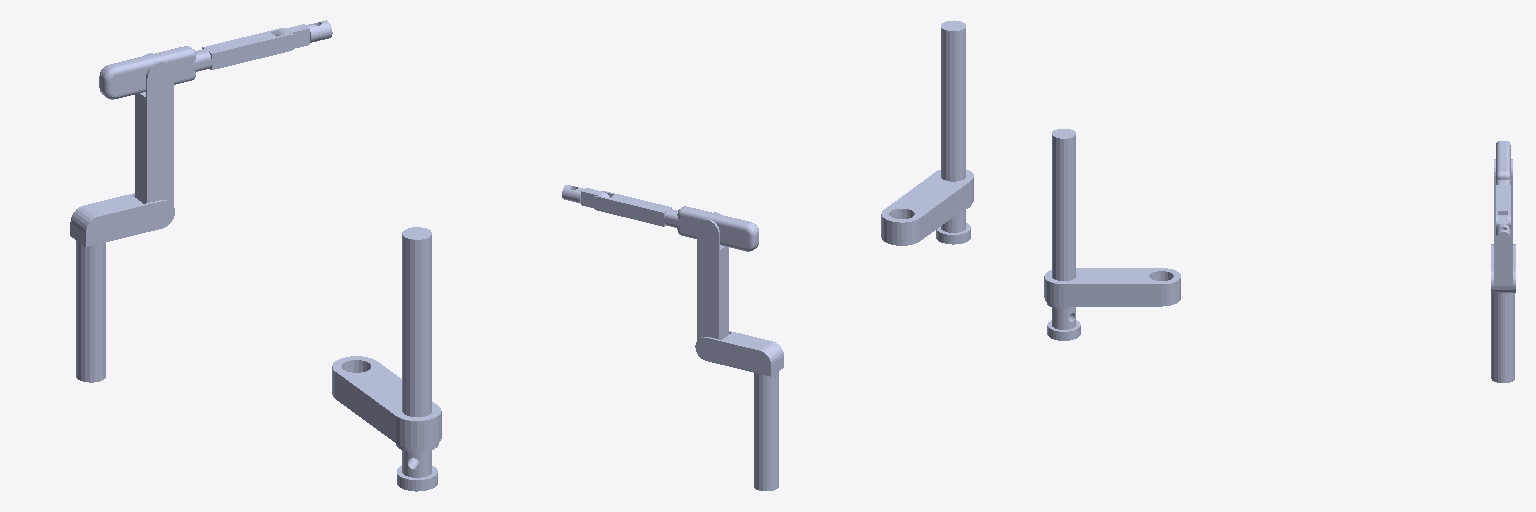
The robot description file, URDF, robot "ttcc":
<?xml version="1.0" encoding="utf-8"?>
<!-- This URDF was automatically created by SolidWorks to URDF Exporter! Originally created by Stephen Brawner (brawner@gmail.com) 
     Commit Version: 1.6.0-4-g7f85cfe  Build Version: 1.6.7995.38578
     For more information, please see http://wiki.ros.org/sw_urdf_exporter -->
<robot
  name="ttcc">
  <link
    name="base_link">
    <inertial>
      <origin
        xyz="-1.73472347597681E-18 0 0.0998780760555324"
        rpy="0 0 0" />
      <mass
        value="0.98887911957046" />
      <inertia
        ixx="0.00386390013512193"
        ixy="-6.15155978133186E-38"
        ixz="1.46264242236905E-19"
        iyy="0.00386390013512193"
        iyz="-8.4410901568214E-36"
        izz="0.000743243095074335" />
    </inertial>
    <visual>
      <origin
        xyz="0 0 0"
        rpy="0 0 0" />
      <geometry>
        <mesh
          filename="package://ttcc/meshes/base_link.STL" />
      </geometry>
      <material
        name="">
        <color
          rgba="0.792156862745098 0.819607843137255 0.933333333333333 1" />
      </material>
    </visual>
    <collision>
      <origin
        xyz="0 0 0"
        rpy="0 0 0" />
      <geometry>
        <mesh
          filename="package://ttcc/meshes/base_link.STL" />
      </geometry>
    </collision>
  </link>
  <link
    name="rot1">
    <inertial>
      <origin
        xyz="0.118676345594585 6.93889390390723E-18 0.0296690863986462"
        rpy="0 0 0" />
      <mass
        value="1.05132741228718" />
      <inertia
        ixx="0.000968741777605735"
        ixy="1.53367779055571E-19"
        ixz="-0.000399196555067386"
        iyy="0.00620864004558683"
        iyz="7.95238803452061E-20"
        izz="0.00629429353114417" />
    </inertial>
    <visual>
      <origin
        xyz="0 0 0"
        rpy="0 0 0" />
      <geometry>
        <mesh
          filename="package://ttcc/meshes/rot1.STL" />
      </geometry>
      <material
        name="">
        <color
          rgba="0.792156862745098 0.819607843137255 0.933333333333333 1" />
      </material>
    </visual>
    <collision>
      <origin
        xyz="0 0 0"
        rpy="0 0 0" />
      <geometry>
        <mesh
          filename="package://ttcc/meshes/rot1.STL" />
      </geometry>
    </collision>
  </link>
  <joint
    name="1"
    type="continuous">
    <origin
      xyz="0 0 0.1772"
      rpy="0 0 0" />
    <parent
      link="base_link" />
    <child
      link="rot1" />
    <axis
      xyz="0 0 1" />
  </joint>
  <link
    name="rot2">
    <inertial>
      <origin
        xyz="0.1 0 0.0750000000000004"
        rpy="0 0 0" />
      <mass
        value="0.854977871437822" />
      <inertia
        ixx="0.000674638405706707"
        ixy="6.4804554053383E-20"
        ixz="1.13555967627051E-19"
        iyy="0.00431775045341826"
        iyz="6.60322314929737E-21"
        izz="0.00463614807935921" />
    </inertial>
    <visual>
      <origin
        xyz="0 0 0"
        rpy="0 0 0" />
      <geometry>
        <mesh
          filename="package://ttcc/meshes/rot2.STL" />
      </geometry>
      <material
        name="">
        <color
          rgba="0.792156862745098 0.819607843137255 0.933333333333333 1" />
      </material>
    </visual>
    <collision>
      <origin
        xyz="0 0 0"
        rpy="0 0 0" />
      <geometry>
        <mesh
          filename="package://ttcc/meshes/rot2.STL" />
      </geometry>
    </collision>
  </link>
  <joint
    name="2"
    type="revolute">
    <origin
      xyz="0.2 0 0"
      rpy="0 0 -1.57079632679489" />
    <parent
      link="rot1" />
    <child
      link="rot2" />
    <axis
      xyz="0 0 1" />
    <limit
      lower="-1.1"
      upper="4.3"
      effort="0"
      velocity="0" />
  </joint>
  <link
    name="prisma1">
    <inertial>
      <origin
        xyz="0 -2.77555756156289E-17 -0.1895"
        rpy="0 0 0" />
      <mass
        value="0.744164759819082" />
      <inertia
        ixx="0.00902398993248613"
        ixy="-2.53580488584256E-20"
        ixz="-3.11783790133065E-19"
        iyy="0.00902398993248613"
        iyz="4.28033982679163E-20"
        izz="0.000232551487443463" />
    </inertial>
    <visual>
      <origin
        xyz="0 0 0"
        rpy="0 0 0" />
      <geometry>
        <mesh
          filename="package://ttcc/meshes/prisma1.STL" />
      </geometry>
      <material
        name="">
        <color
          rgba="0.792156862745098 0.819607843137255 0.933333333333333 1" />
      </material>
    </visual>
    <collision>
      <origin
        xyz="0 0 0"
        rpy="0 0 0" />
      <geometry>
        <mesh
          filename="package://ttcc/meshes/prisma1.STL" />
      </geometry>
    </collision>
  </link>
  <joint
    name="3"
    type="prismatic">
    <origin
      xyz="0.2 0 0.043153"
      rpy="-3.1416 0 0" />
    <parent
      link="rot2" />
    <child
      link="prisma1" />
    <axis
      xyz="0 0 -1" />
    <limit
      lower="0"
      upper="-0.15"
      effort="0"
      velocity="0" />
  </joint>
  <link
    name="rot3">
    <inertial>
      <origin
        xyz="5.34014416020412E-10 -5.35736927043118E-10 -0.0349809453938201"
        rpy="0 0 0" />
      <mass
        value="0.182222784010828" />
      <inertia
        ixx="0.000161921495281095"
        ixy="1.35115873626282E-06"
        ixz="2.85630487972558E-12"
        iyy="0.000161912661018423"
        iyz="-2.8655180163919E-12"
        izz="8.98947732639393E-05" />
    </inertial>
    <visual>
      <origin
        xyz="0 0 0"
        rpy="0 0 0" />
      <geometry>
        <mesh
          filename="package://ttcc/meshes/rot3.STL" />
      </geometry>
      <material
        name="">
        <color
          rgba="0.792156862745098 0.819607843137255 0.933333333333333 1" />
      </material>
    </visual>
    <collision>
      <origin
        xyz="0 0 0"
        rpy="0 0 0" />
      <geometry>
        <mesh
          filename="package://ttcc/meshes/rot3.STL" />
      </geometry>
    </collision>
  </link>
  <joint
    name="4"
    type="continuous">
    <origin
      xyz="0 0 0.073684"
      rpy="0 0 0" />
    <parent
      link="prisma1" />
    <child
      link="rot3" />
    <axis
      xyz="0 0 -1" />
  </joint>
  <link
    name="org">
    <inertial>
      <origin
        xyz="0 0 0.127637362637363"
        rpy="0 0 0" />
      <mass
        value="0.500298630084175" />
      <inertia
        ixx="0.00281552189368122"
        ixy="-1.05789932569103E-38"
        ixz="5.85218717398302E-21"
        iyy="0.00281552189368122"
        iyz="-3.30465389934682E-36"
        izz="0.000153869317686603" />
    </inertial>
    <visual>
      <origin
        xyz="0 0 0"
        rpy="0 0 0" />
      <geometry>
        <mesh
          filename="package://ttcc/meshes/org.STL" />
      </geometry>
      <material
        name="">
        <color
          rgba="0.792156862745098 0.819607843137255 0.933333333333333 1" />
      </material>
    </visual>
    <collision>
      <origin
        xyz="0 0 0"
        rpy="0 0 0" />
      <geometry>
        <mesh
          filename="package://ttcc/meshes/org.STL" />
      </geometry>
    </collision>
  </link>
  <joint
    name="0"
    type="fixed">
    <origin
      xyz="0.1 0.7 0"
      rpy="0 0 0" />
    <parent
      link="base_link" />
    <child
      link="org" />
    <axis
      xyz="0 0 0" />
  </joint>
  <link
    name="rott1">
    <inertial>
      <origin
        xyz="0.0445308383018185 -1.11022302462516E-16 0.0248827682680421"
        rpy="0 0 0" />
      <mass
        value="0.306747611120431" />
      <inertia
        ixx="0.000132408996930483"
        ixy="-5.18015685704998E-20"
        ixz="-4.04275985320019E-06"
        iyy="0.000569066893650669"
        iyz="3.11652553734024E-21"
        izz="0.000581231456583245" />
    </inertial>
    <visual>
      <origin
        xyz="0 0 0"
        rpy="0 0 0" />
      <geometry>
        <mesh
          filename="package://ttcc/meshes/rott1.STL" />
      </geometry>
      <material
        name="">
        <color
          rgba="0.792156862745098 0.819607843137255 0.933333333333333 1" />
      </material>
    </visual>
    <collision>
      <origin
        xyz="0 0 0"
        rpy="0 0 0" />
      <geometry>
        <mesh
          filename="package://ttcc/meshes/rott1.STL" />
      </geometry>
    </collision>
  </link>
  <joint
    name="11"
    type="continuous">
    <origin
      xyz="0 0 0.25"
      rpy="0 0 0" />
    <parent
      link="org" />
    <child
      link="rott1" />
    <axis
      xyz="0 0 1" />
  </joint>
  <link
    name="rott2">
    <inertial>
      <origin
        xyz="-3.05311331771918E-16 0.107347016959895 0"
        rpy="0 0 0" />
      <mass
        value="0.480607490017801" />
      <inertia
        ixx="0.00256750193941879"
        ixy="8.54761105586451E-18"
        ixz="3.75769507148681E-21"
        iyy="0.000168777360172501"
        iyz="5.85063261599351E-21"
        izz="0.00259962401732567" />
    </inertial>
    <visual>
      <origin
        xyz="0 0 0"
        rpy="0 0 0" />
      <geometry>
        <mesh
          filename="package://ttcc/meshes/rott2.STL" />
      </geometry>
      <material
        name="">
        <color
          rgba="0.792156862745098 0.819607843137255 0.933333333333333 1" />
      </material>
    </visual>
    <collision>
      <origin
        xyz="0 0 0"
        rpy="0 0 0" />
      <geometry>
        <mesh
          filename="package://ttcc/meshes/rott2.STL" />
      </geometry>
    </collision>
  </link>
  <joint
    name="22"
    type="continuous">
    <origin
      xyz="0.12 0 0.0250000000000004"
      rpy="1.5707963267949 0 0" />
    <parent
      link="rott1" />
    <child
      link="rott2" />
    <axis
      xyz="0 0 1" />
  </joint>
  <link
    name="rott3">
    <inertial>
      <origin
        xyz="-4.44089209850063E-16 0.0108238138063189 0"
        rpy="0 0 0" />
      <mass
        value="0.270791217116412" />
      <inertia
        ixx="0.000747444616266822"
        ixy="2.87878209695788E-18"
        ixz="-4.36547414995888E-11"
        iyy="9.04657850828716E-05"
        iyz="-1.98353820419388E-19"
        izz="0.000796236624517121" />
    </inertial>
    <visual>
      <origin
        xyz="0 0 0"
        rpy="0 0 0" />
      <geometry>
        <mesh
          filename="package://ttcc/meshes/rott3.STL" />
      </geometry>
      <material
        name="">
        <color
          rgba="0.792156862745098 0.819607843137255 0.933333333333333 1" />
      </material>
    </visual>
    <collision>
      <origin
        xyz="0 0 0"
        rpy="0 0 0" />
      <geometry>
        <mesh
          filename="package://ttcc/meshes/rott3.STL" />
      </geometry>
    </collision>
  </link>
  <joint
    name="33"
    type="continuous">
    <origin
      xyz="0 0.25 0"
      rpy="0 0 1.5707963267949" />
    <parent
      link="rott2" />
    <child
      link="rott3" />
    <axis
      xyz="0 0 -1" />
  </joint>
  <link
    name="rott4">
    <inertial>
      <origin
        xyz="-4.44089209850063E-16 -1.59872115546023E-14 0.143664004147768"
        rpy="0 0 0" />
      <mass
        value="0.152485837989553" />
      <inertia
        ixx="0.000579002022462241"
        ixy="-6.46858191672832E-21"
        ixz="-3.034402317125E-19"
        iyy="0.000578463326383573"
        iyz="-2.48874438123013E-17"
        izz="2.04516024487961E-05" />
    </inertial>
    <visual>
      <origin
        xyz="0 0 0"
        rpy="0 0 0" />
      <geometry>
        <mesh
          filename="package://ttcc/meshes/rott4.STL" />
      </geometry>
      <material
        name="">
        <color
          rgba="0.792156862745098 0.819607843137255 0.933333333333333 1" />
      </material>
    </visual>
    <collision>
      <origin
        xyz="0 0 0"
        rpy="0 0 0" />
      <geometry>
        <mesh
          filename="package://ttcc/meshes/rott4.STL" />
      </geometry>
    </collision>
  </link>
  <joint
    name="44"
    type="continuous">
    <origin
      xyz="0 0 0"
      rpy="1.57079632679494 0 0" />
    <parent
      link="rott3" />
    <child
      link="rott4" />
    <axis
      xyz="0 0 1" />
  </joint>
  <link
    name="rott5">
    <inertial>
      <origin
        xyz="2.22044604925031E-16 2.23154827949656E-14 0.0111165796349907"
        rpy="0 0 0" />
      <mass
        value="0.0280526545231308" />
      <inertia
        ixx="7.98304420565284E-06"
        ixy="-5.57703536507552E-21"
        ixz="-8.74367066857438E-22"
        iyy="8.72615355637493E-06"
        iyz="-5.12801288448645E-22"
        izz="3.65832664317194E-06" />
    </inertial>
    <visual>
      <origin
        xyz="0 0 0"
        rpy="0 0 0" />
      <geometry>
        <mesh
          filename="package://ttcc/meshes/rott5.STL" />
      </geometry>
      <material
        name="">
        <color
          rgba="0.792156862745098 0.819607843137255 0.933333333333333 1" />
      </material>
    </visual>
    <collision>
      <origin
        xyz="0 0 0"
        rpy="0 0 0" />
      <geometry>
        <mesh
          filename="package://ttcc/meshes/rott5.STL" />
      </geometry>
    </collision>
  </link>
  <joint
    name="55"
    type="continuous">
    <origin
      xyz="0 0 0.25"
      rpy="0 0 0" />
    <parent
      link="rott4" />
    <child
      link="rott5" />
    <axis
      xyz="0 1 0" />
  </joint>
  <link
    name="rott6">
    <inertial>
      <origin
        xyz="-8.2239071108603E-09 9.32743948744985E-09 0.051594322436814"
        rpy="0 0 0" />
      <mass
        value="0.0293018734953369" />
      <inertia
        ixx="1.38937890416148E-05"
        ixy="-2.48681364468295E-08"
        ixz="3.1908007174667E-12"
        iyy="1.36059363892186E-05"
        iyz="-2.19886443310631E-12"
        izz="2.90053964064902E-06" />
    </inertial>
    <visual>
      <origin
        xyz="0 0 0"
        rpy="0 0 0" />
      <geometry>
        <mesh
          filename="package://ttcc/meshes/rott6.STL" />
      </geometry>
      <material
        name="">
        <color
          rgba="0.792156862745098 0.819607843137255 0.933333333333333 1" />
      </material>
    </visual>
    <collision>
      <origin
        xyz="0 0 0"
        rpy="0 0 0" />
      <geometry>
        <mesh
          filename="package://ttcc/meshes/rott6.STL" />
      </geometry>
    </collision>
  </link>
  <joint
    name="66"
    type="continuous">
    <origin
      xyz="0 0 0"
      rpy="0 0 0" />
    <parent
      link="rott5" />
    <child
      link="rott6" />
    <axis
      xyz="0 0 -1" />
  </joint>
  <link
    name="efector">
    <inertial>
      <origin
        xyz="-8.22390666677109E-09 9.32741706094475E-09 -0.0284056775631862"
        rpy="0 0 0" />
      <mass
        value="0.0293018734953369" />
      <inertia
        ixx="1.38937890416148E-05"
        ixy="-2.48681364468295E-08"
        ixz="3.19080069873711E-12"
        iyy="1.36059363892186E-05"
        iyz="-2.19886443306062E-12"
        izz="2.90053964064902E-06" />
    </inertial>
    <visual>
      <origin
        xyz="0 0 0"
        rpy="0 0 0" />
      <geometry>
        <mesh
          filename="package://ttcc/meshes/efector.STL" />
      </geometry>
      <material
        name="">
        <color
          rgba="0.792156862745098 0.819607843137255 0.933333333333333 1" />
      </material>
    </visual>
    <collision>
      <origin
        xyz="0 0 0"
        rpy="0 0 0" />
      <geometry>
        <mesh
          filename="package://ttcc/meshes/efector.STL" />
      </geometry>
    </collision>
  </link>
  <joint
    name="77"
    type="fixed">
    <origin
      xyz="0 0 0.0800000000000002"
      rpy="0 0 0" />
    <parent
      link="rott6" />
    <child
      link="efector" />
    <axis
      xyz="0 0 0" />
  </joint>
</robot>

--- Facts derived from the render (not from the file) ---
Views: 3 orthographic renders of the robot side by side, from view 1: azimuth 30°, elevation 25°; view 2: azimuth 150°, elevation 25°; view 3: azimuth 270°, elevation 25°.
Robot: ttcc — 13 links, 12 joints (1 revolute, 8 continuous, 1 prismatic, 2 fixed); root link base_link; default pose: every joint at zero.
Visible links, largest first — view 1: prisma1, rot2, rott2, org, rott1, rott3, rott4, rot3; view 2: rot2, prisma1, rott2, org, rott1, rott3, rott4, rot3; view 3: rot2, prisma1, org, rott2, rot3, rott3.
Link boxes in pixels (x1,y1,x2,y2): prisma1: (402, 227, 431, 416); rot2: (332, 356, 441, 448); rott2: (135, 53, 173, 205); org: (76, 241, 105, 382); rott1: (70, 193, 174, 246); rott3: (99, 46, 211, 99); rott4: (202, 28, 297, 69); rot3: (396, 443, 438, 491); rot2: (881, 170, 973, 245); prisma1: (941, 20, 965, 181); rott2: (697, 212, 728, 339); org: (754, 371, 778, 490); rott1: (695, 331, 783, 376); rott3: (664, 206, 758, 251); rott4: (591, 191, 671, 226); rot3: (936, 204, 971, 244); rot2: (1044, 268, 1180, 306); prisma1: (1052, 129, 1075, 280); org: (1491, 293, 1514, 382); rott2: (1494, 159, 1512, 292); rot3: (1047, 303, 1080, 340); rott3: (1496, 141, 1510, 184).
Size in the robot's own frame: 0.475 by 0.965 by 0.5994 metres.
Meshes: 13 distinct files referenced, 11 mesh visuals loaded (11 binary STL); not drawn: 2 (reference not matched to a file when rendering).
